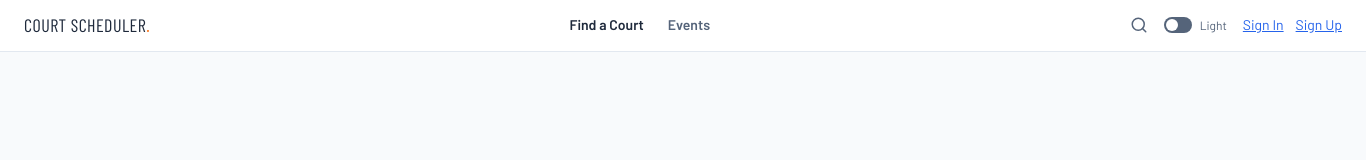
Test case: AppShell › closes the search panel when the search button is clicked again
Click the button named "Open search" at (1139, 25), box [1130,16,1148,34]
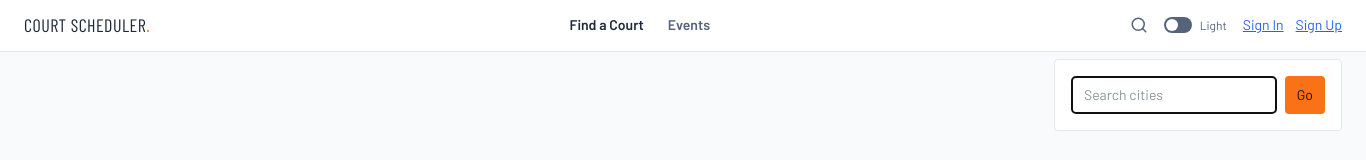
Check: the element named "Search" is shown, box [1054,59,1342,131]
Click the button named "Close search" at (1139, 25), box [1130,16,1148,34]
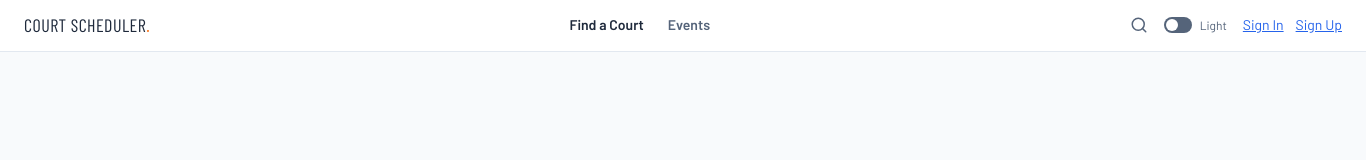
Check: the field labelled "Search" is gone
